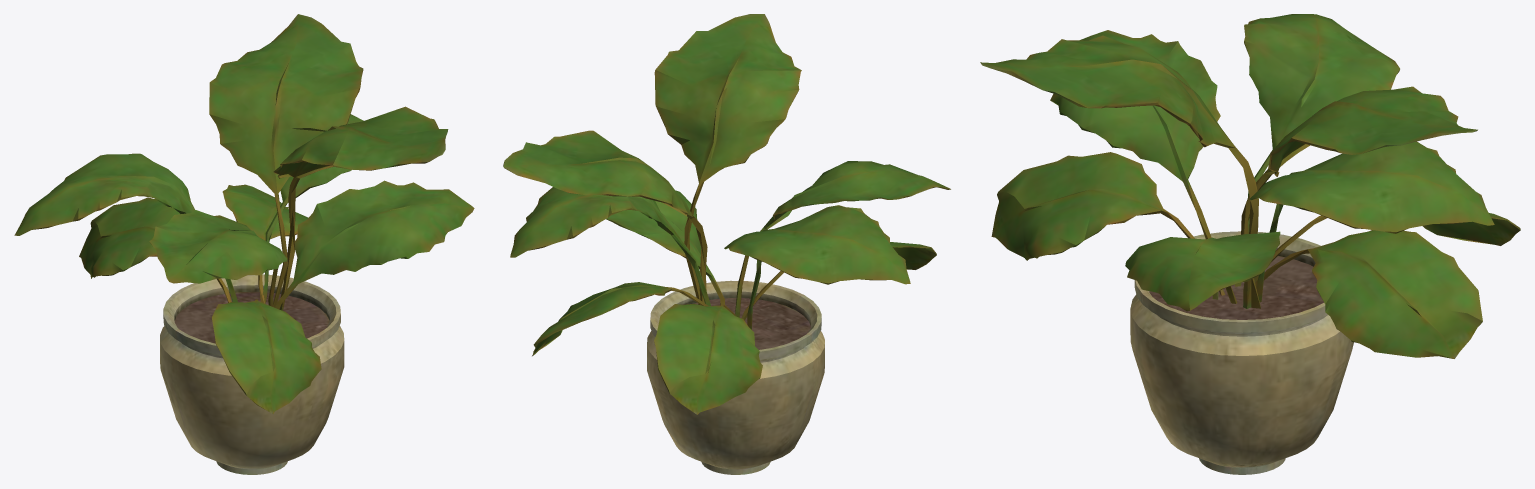
File: plant-small-a.glb
3 views of the same model, side by side, from view 1: azimuth 30°, elevation 25°; view 2: azimuth 150°, elevation 25°; view 3: azimuth 270°, elevation 25° (orthographic). The views are drawn at different scales.
Parts seen in each view (by area): view 1: plant-small-a; view 2: plant-small-a; view 3: plant-small-a.
Part boxes in pixels (bbox=[...]): plant-small-a: bbox=[14, 14, 474, 474]; plant-small-a: bbox=[503, 14, 950, 474]; plant-small-a: bbox=[980, 14, 1520, 474].
Size of the model in its own units: 0.4927 by 0.419 by 0.4644.
Materials: 1 (1 with a texture image).
